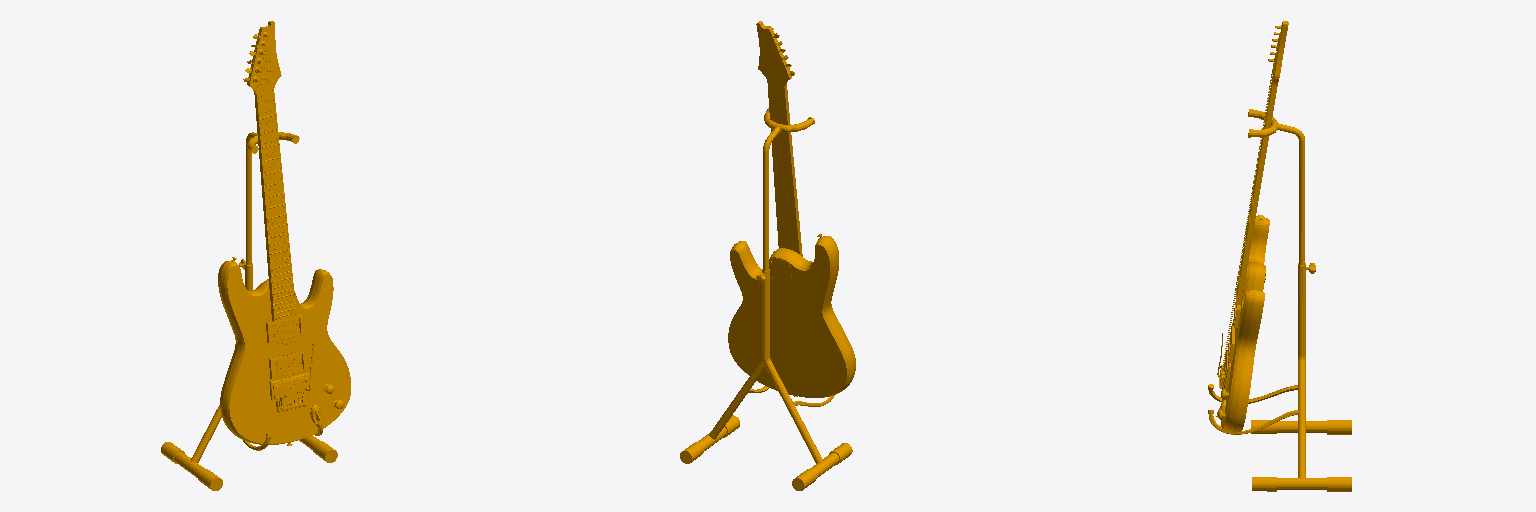
URDF robot description (none):
<robot name="none">
       <link name="none">
           <visual>
               <origin rpy="1.57 0 0" xyz="0 0 0" />
               <geometry>
                   <mesh filename="electricGuitar.obj" />
               </geometry>
           </visual>
          <collision>
              <geometry>
                  <box size="0.313414 1.000000 0.292185" />
              </geometry>
          </collision>

          <inertial>
            <mass value="0.0" />
            <inertia ixx="0.0" ixy="0.0" ixz="0.0" iyy="0.0" iyz="0.0" izz="0.0" />
          </inertial>
      </link>
  </robot>

--- What the picture shows (computed from the rendered views, not written in the file) ---
3 views of the same robot in one strip: view 1: azimuth 30°, elevation 25°; view 2: azimuth 150°, elevation 25°; view 3: azimuth 270°, elevation 25° (orthographic).
Robot: none — 1 links, 0 joints (none); root link none; default pose: all joints at 0.
Visible links, largest first — view 1: none; view 2: none; view 3: none.
Link boxes in pixels (x1,y1,x2,y2): none: (161,21,350,490); none: (680,21,855,490); none: (1208,21,1351,491).
Size in the robot's own frame: 0.3134 by 0.2921 by 1 metres.
1 mesh visuals loaded from 1 distinct referenced files (1 OBJ).